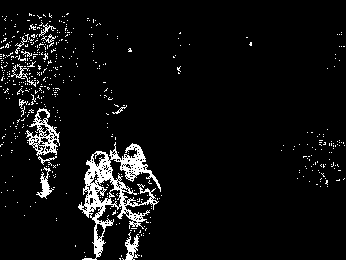person: (115, 141, 162, 260), (84, 149, 121, 260), (25, 106, 59, 200)
